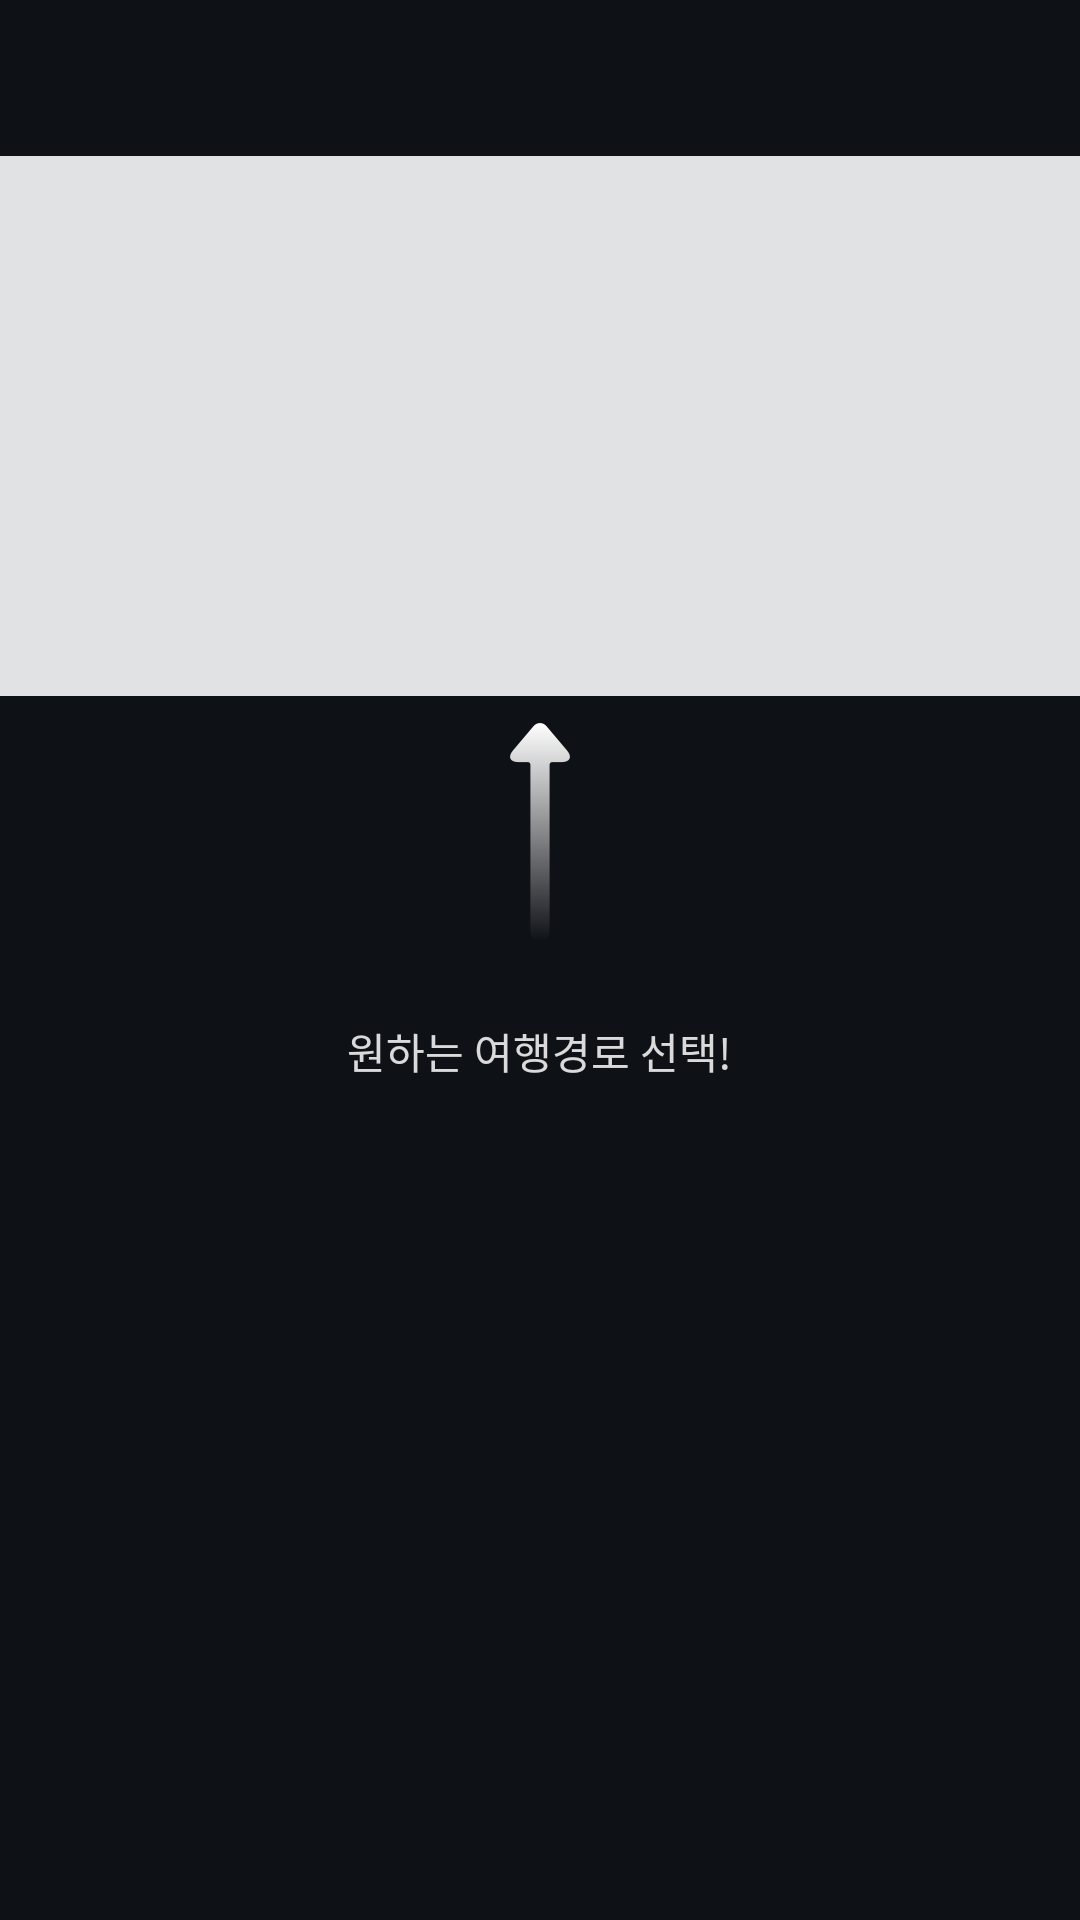

Named icons in this screenshot (1080*1920) and their centers, [x,y]:
coachmark up: [540,821]
